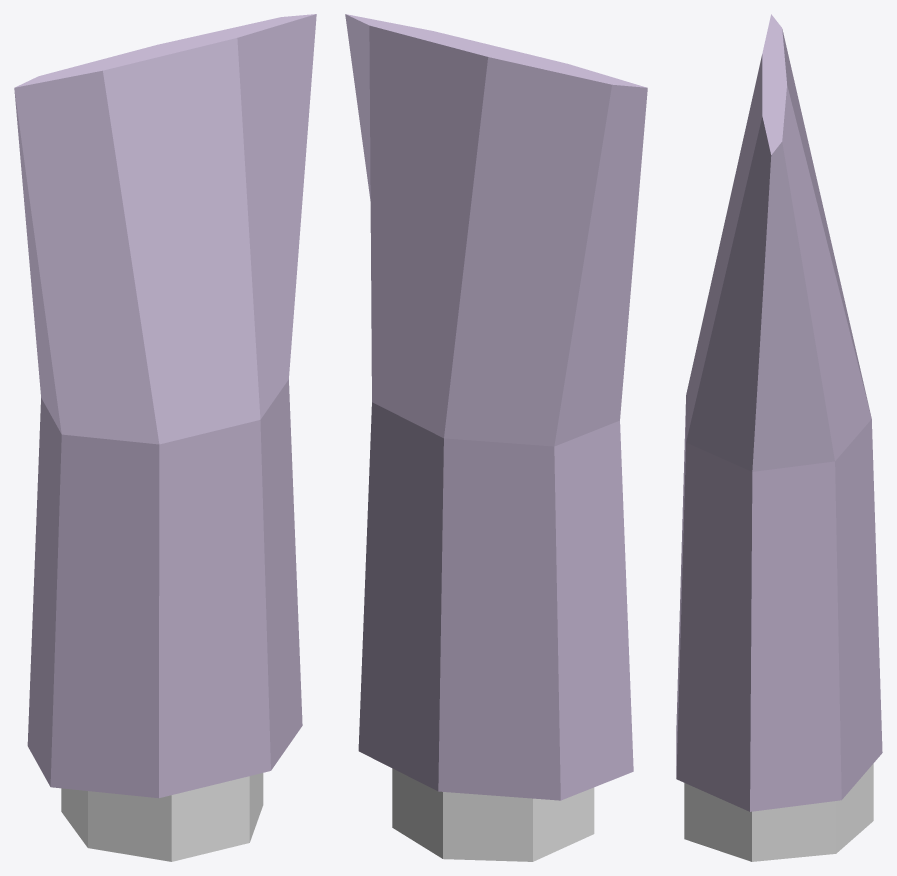
The model's file is Toothpaste.fbx.
3 views of the same model, side by side, from view 1: azimuth 30°, elevation 25°; view 2: azimuth 150°, elevation 25°; view 3: azimuth 270°, elevation 25° (orthographic). The views are drawn at different scales.
Parts seen in each view (by area): view 1: Toothpaste; view 2: Toothpaste; view 3: Toothpaste.
Boxes of the visible parts, bbox=[...] form: Toothpaste: bbox=[14, 14, 316, 861]; Toothpaste: bbox=[345, 14, 647, 861]; Toothpaste: bbox=[676, 14, 882, 861].
Size of the model in its own units: 16.13 by 39.17 by 9.94.
